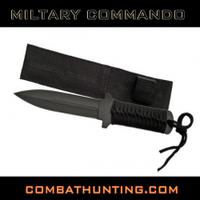knife: (5, 85, 176, 134)
